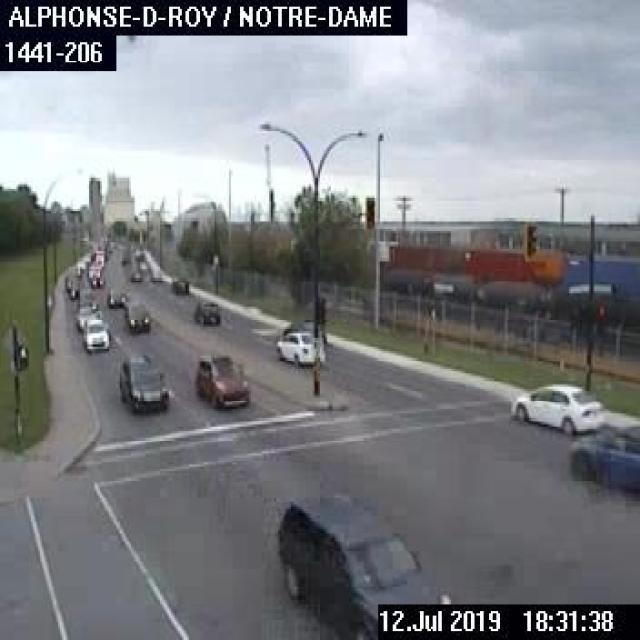vehicle: (271, 489, 451, 638), (508, 375, 606, 433), (569, 422, 638, 494), (116, 353, 174, 411), (191, 351, 251, 407), (273, 321, 329, 364), (120, 251, 158, 282), (122, 297, 152, 331), (82, 319, 107, 351), (191, 298, 220, 324), (74, 302, 101, 328), (106, 286, 128, 307), (167, 274, 189, 294), (64, 278, 83, 300), (88, 270, 105, 289)
